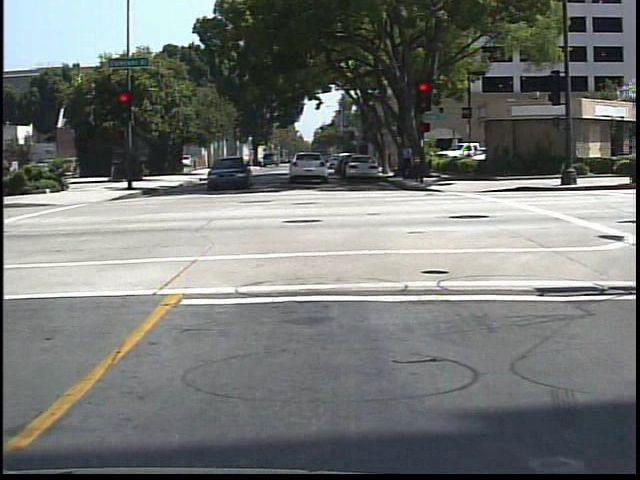person: (395, 138, 417, 182)
